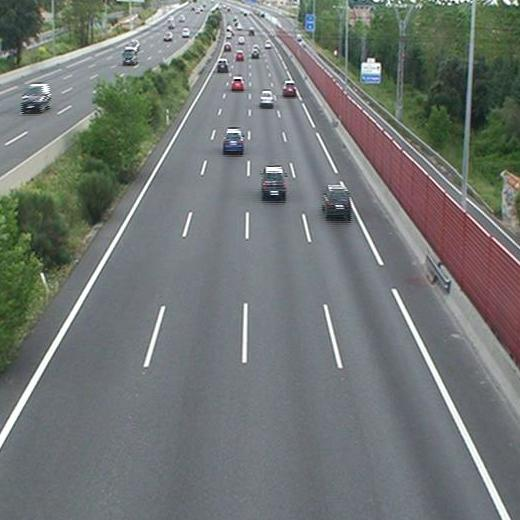car: (323, 186, 351, 216), (261, 168, 287, 195), (222, 129, 244, 152), (282, 82, 297, 96), (260, 90, 274, 105), (231, 78, 245, 90), (216, 59, 229, 71), (235, 50, 244, 59), (224, 43, 232, 50), (251, 49, 258, 56)
